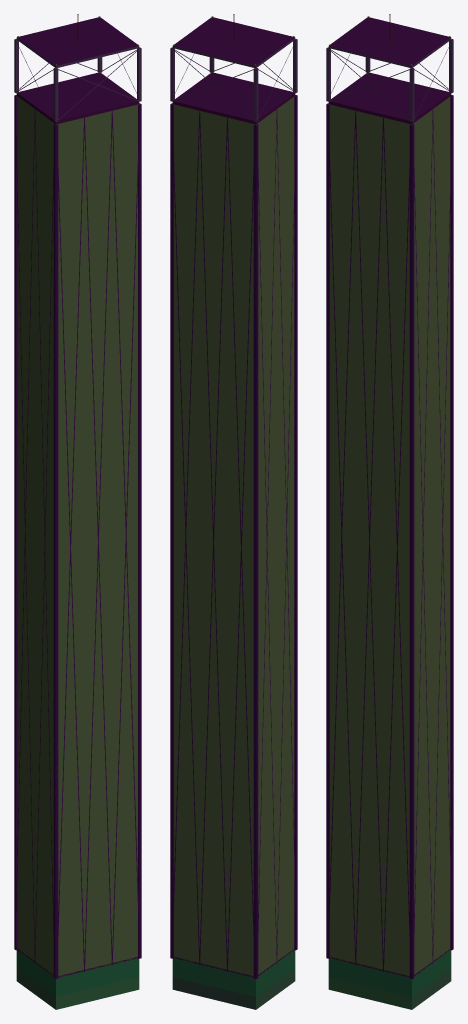
File: tower_n.glb
The picture shows the model from 3 angles, left to right: view 1: azimuth 30°, elevation 25°; view 2: azimuth 150°, elevation 25°; view 3: azimuth 330°, elevation 25°; orthographic projection.
Parts seen in each view (by area): view 1: tower_n; view 2: tower_n; view 3: tower_n.
Part boxes in pixels (x1,y1,x2,y2): tower_n: (14, 14, 141, 1009); tower_n: (170, 14, 297, 1009); tower_n: (326, 14, 453, 1009).
Bounding box in the file's own units: 34.18 × 367 × 28.21.
